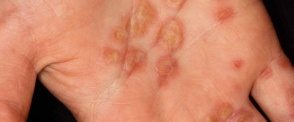SJS-TEN: (99, 0, 190, 90), (208, 97, 258, 121), (210, 0, 239, 30)
